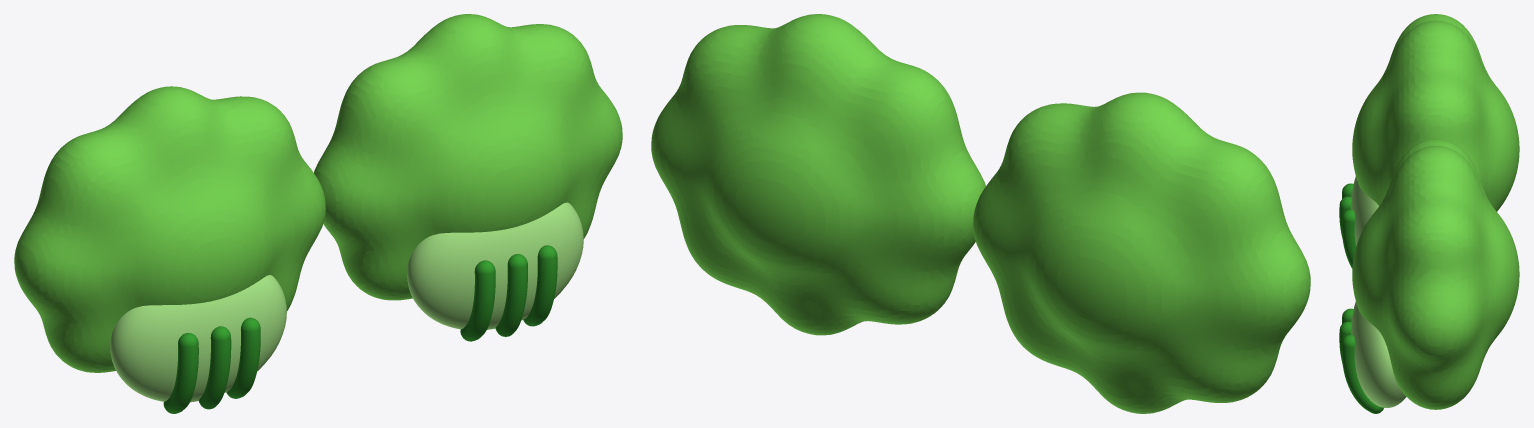
File: paws.glb
3 views of the same model, side by side, from view 1: azimuth 30°, elevation 25°; view 2: azimuth 150°, elevation 25°; view 3: azimuth 270°, elevation 25° (orthographic). The views are drawn at different scales.
Parts seen in each view (by area): view 1: paws_-100_solid, paws_-101_solid, paws_-103_pad, paws_-102_pad, paws_-103_toes, paws_-102_toes; view 2: paws_-100_solid, paws_-101_solid; view 3: paws_-101_solid, paws_-100_solid, paws_-103_pad, paws_-103_toes, paws_-102_toes, paws_-102_pad.
Boxes of the visible parts, x1,y1,x2,y2 form: paws_-100_solid: (14,86,325,372); paws_-101_solid: (314,14,622,300); paws_-103_pad: (407,202,583,329); paws_-102_pad: (110,275,286,402); paws_-103_toes: (460,245,557,341); paws_-102_toes: (163,317,260,413); paws_-100_solid: (973,92,1310,413); paws_-101_solid: (651,14,985,335); paws_-101_solid: (1352,139,1519,409); paws_-100_solid: (1352,14,1519,211); paws_-103_pad: (1351,301,1406,407); paws_-103_toes: (1339,308,1383,413); paws_-102_toes: (1339,183,1356,268); paws_-102_pad: (1351,176,1378,245).
Size of the model in its own units: 0.4663 by 0.2161 by 0.1411.
